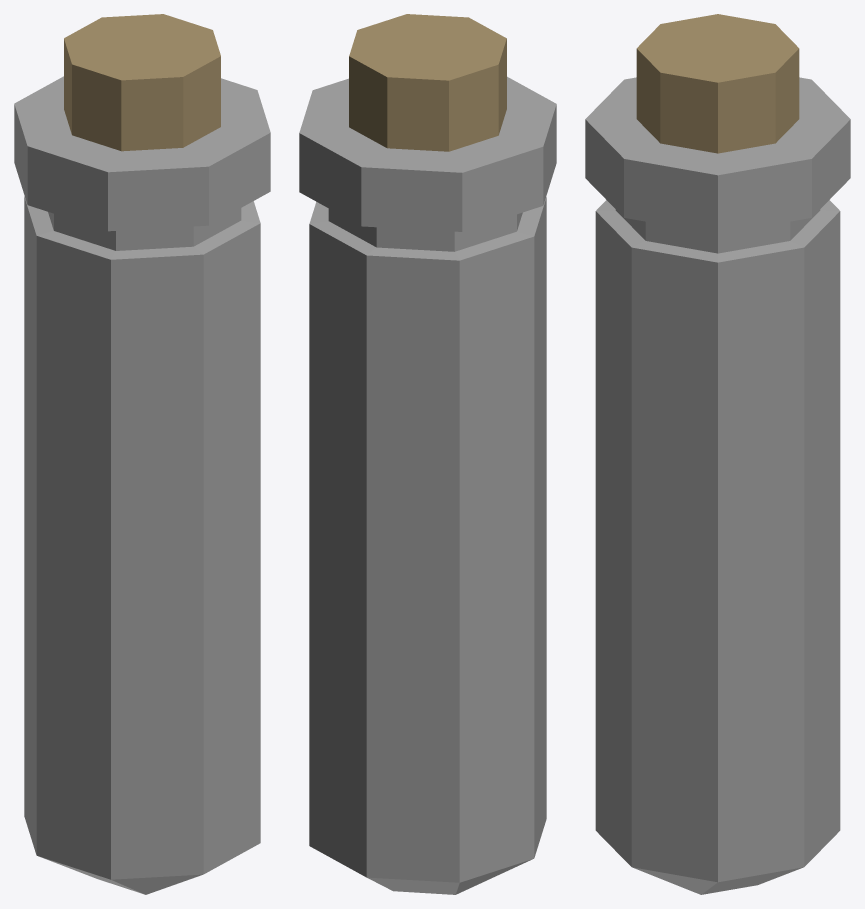
The model's file is vile.fbx.
The picture shows the model from 3 angles, left to right: view 1: azimuth 30°, elevation 25°; view 2: azimuth 150°, elevation 25°; view 3: azimuth 270°, elevation 25°; orthographic projection.
Parts seen in each view (by area): view 1: tube, cork; view 2: tube, cork; view 3: tube, cork.
Boxes of the visible parts, left/top/right/bottom form: tube: left=14, top=76, right=270, bottom=894; cork: left=64, top=14, right=220, bottom=151; tube: left=299, top=76, right=556, bottom=894; cork: left=349, top=14, right=506, bottom=151; tube: left=585, top=77, right=850, bottom=894; cork: left=636, top=14, right=799, bottom=153.
Bounding box in the file's own units: 5.32 × 18.35 × 5.32.
